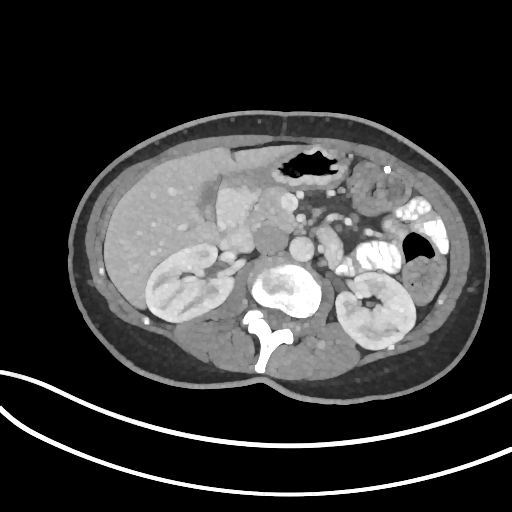Lesion: (392, 321, 405, 340)
